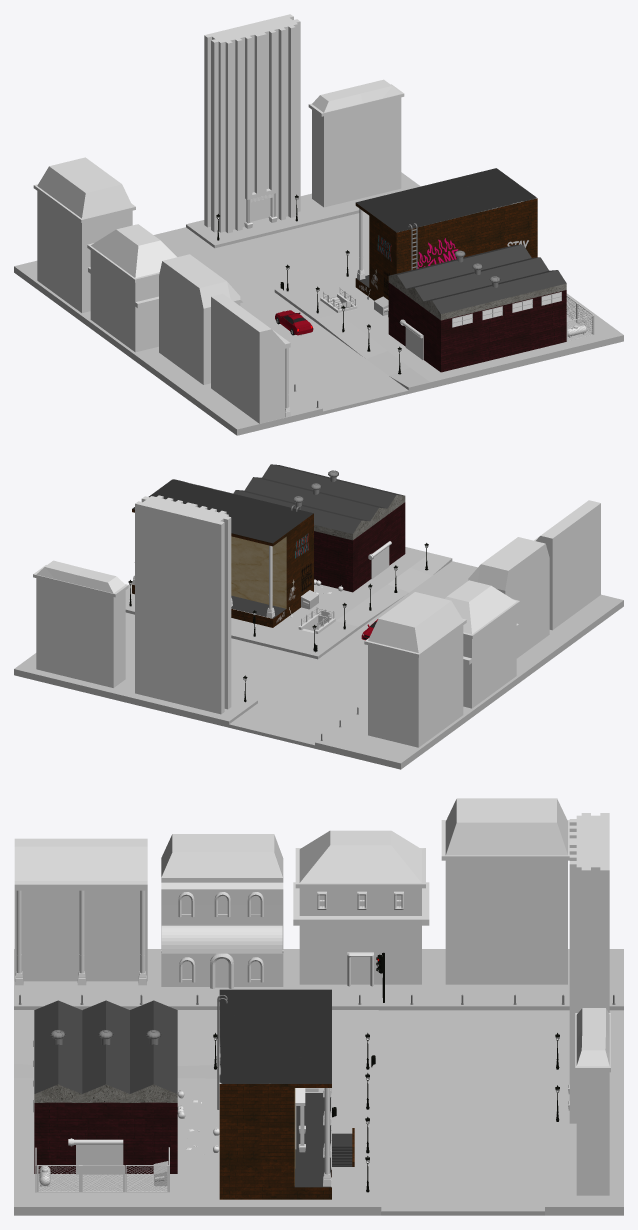
Rendered from city-17-menu.fbx.
3 views of the same model, one above another, from view 1: azimuth 30°, elevation 25°; view 2: azimuth 150°, elevation 25°; view 3: azimuth 270°, elevation 25° (orthographic). The views are drawn at different scales.
Visible parts, largest first — view 1: Chão, Cube.030, Cube.020, Cube.021, Cube.029, Cube.018, Cube.013, Cube.001, Cube.002, Carro; view 2: Chão, Cube.030, Cube.018, Cube.021, Cube.020, Cube.029, Cube.013, Cube.001, Cube.002, Cylinder.021; view 3: Chão, Cube.021, Cube.018, Cube.020, Cube.013, Cube.001, Cube.002, Cube.030, Cube.029, Cube.007, Cylinder.022, Cube.034 (+3 smaller).
Part boxes in pixels (x1,y1,x2,y2): Chão: [14, 172, 623, 435]; Cube.030: [204, 14, 300, 233]; Cube.020: [388, 244, 566, 372]; Cube.021: [355, 168, 537, 300]; Cube.029: [308, 79, 404, 207]; Cube.018: [33, 157, 135, 313]; Cube.013: [87, 224, 176, 352]; Cube.001: [211, 293, 290, 423]; Cube.002: [159, 254, 242, 384]; Carro: [275, 310, 313, 335]; Chão: [14, 547, 623, 769]; Cube.030: [135, 495, 231, 714]; Cube.018: [364, 592, 466, 747]; Cube.021: [132, 479, 313, 627]; Cube.020: [233, 464, 405, 592]; Cube.029: [33, 560, 128, 687]; Cube.013: [445, 580, 520, 708]; Cube.001: [534, 500, 600, 630]; Cube.002: [468, 537, 549, 658]; Cylinder.021: [368, 541, 391, 579]; Chão: [14, 949, 623, 1215]; Cube.021: [219, 989, 354, 1199]; Cube.018: [441, 798, 569, 984]; Cube.020: [34, 1000, 177, 1173]; Cube.013: [293, 830, 429, 984]; Cube.001: [14, 838, 147, 981]; Cube.002: [161, 834, 283, 986]; Cube.030: [569, 813, 609, 1123]; Cube.029: [575, 1008, 610, 1195]; Cube.007: [161, 925, 282, 953]; Cylinder.022: [68, 1138, 123, 1174]; Cube.034: [125, 1165, 168, 1192].
Size of the model in its own units: 9058 by 4851 by 9037.
